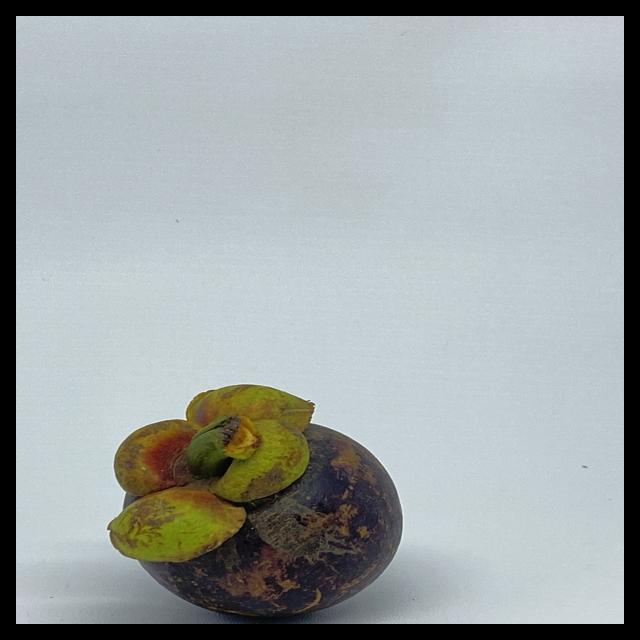mangosteen: (99, 378, 419, 624)
